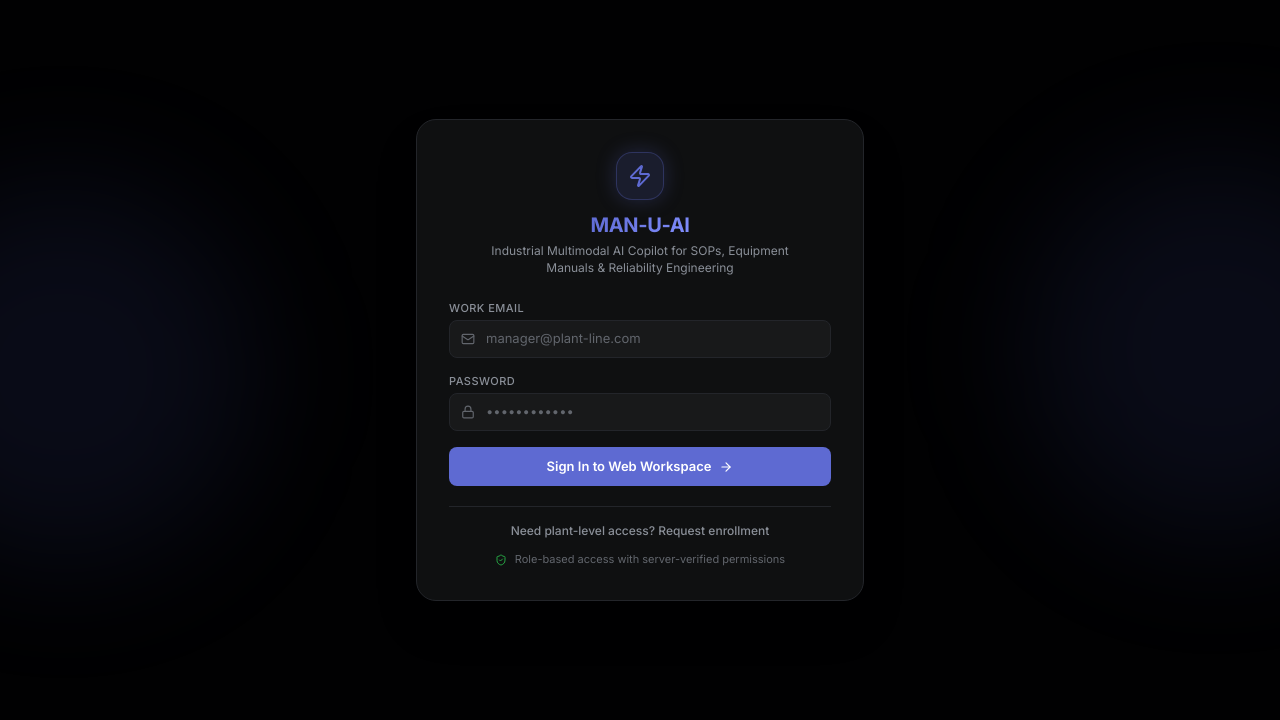
Test case: Stage 5.4 — Web LoginPage Authentication Timeout & 503 Handling › displays informative timeout message when authentication times out
Type "manager@plant.io" into the field with placeholder "manager@plant-line.com" at coordinates (640, 339), box [449,320,831,358]
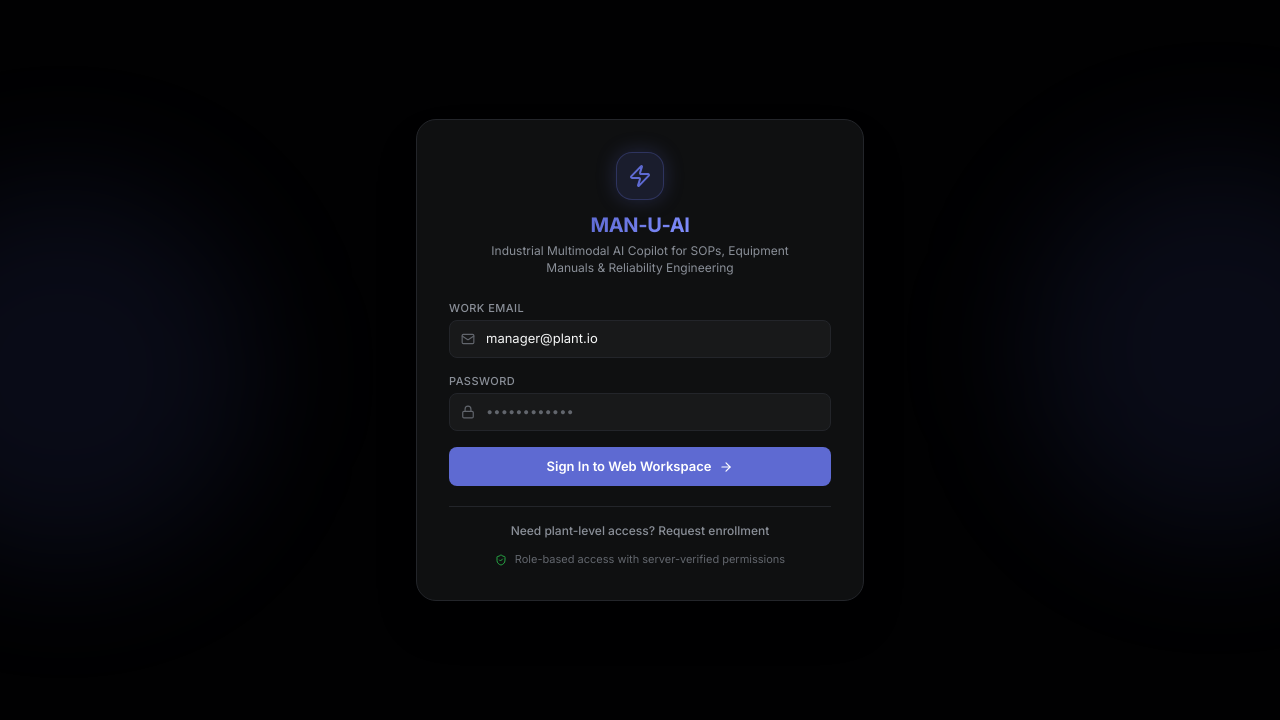
Type "TestPassword123!" into the password field with placeholder "••••••••••••" at coordinates (640, 412), box [449,393,831,431]
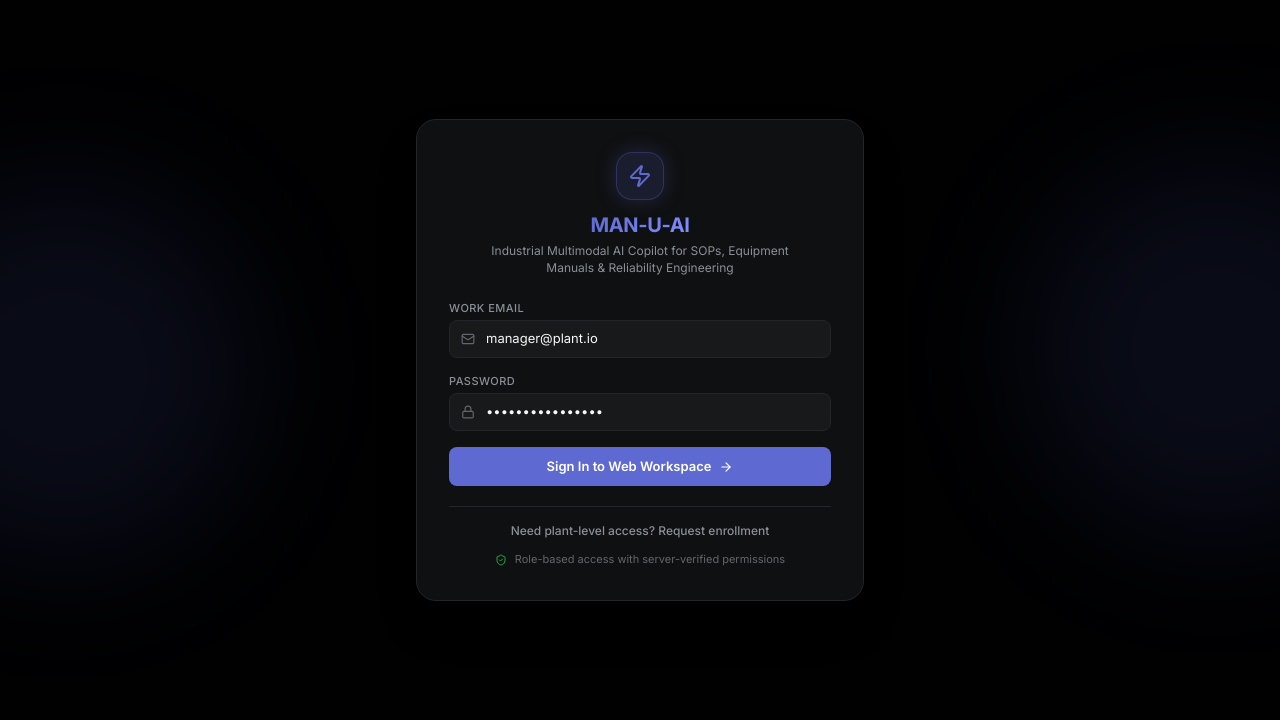
Click the button "Sign In to Web Workspace" at coordinates (640, 467), box [449,447,831,486]
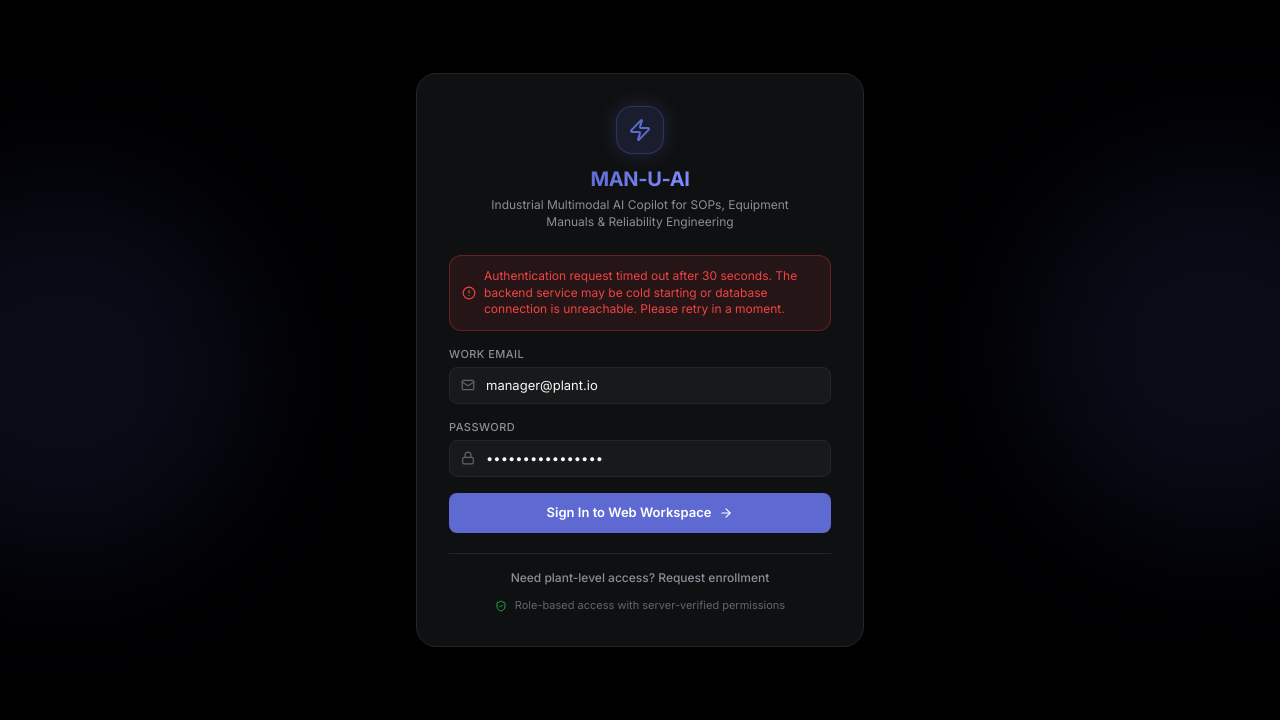
expect the text "Authentication request timed out after 30 seconds" is shown: met, box [484,268,797,316]
